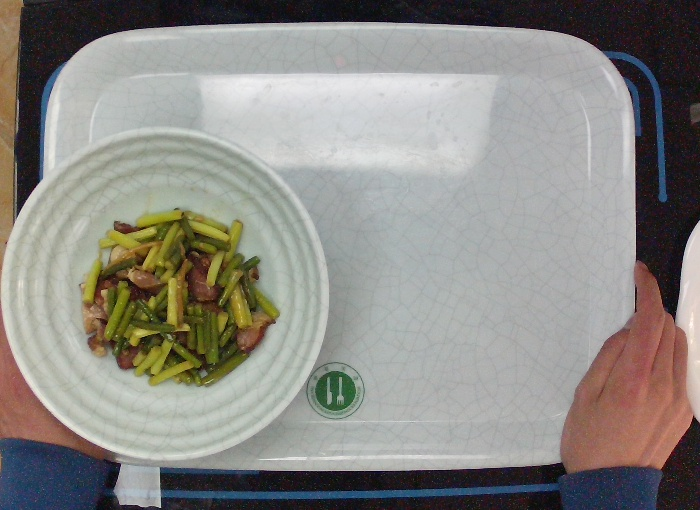JYsf-Da_Tang_Wan: (1, 124, 334, 463)
